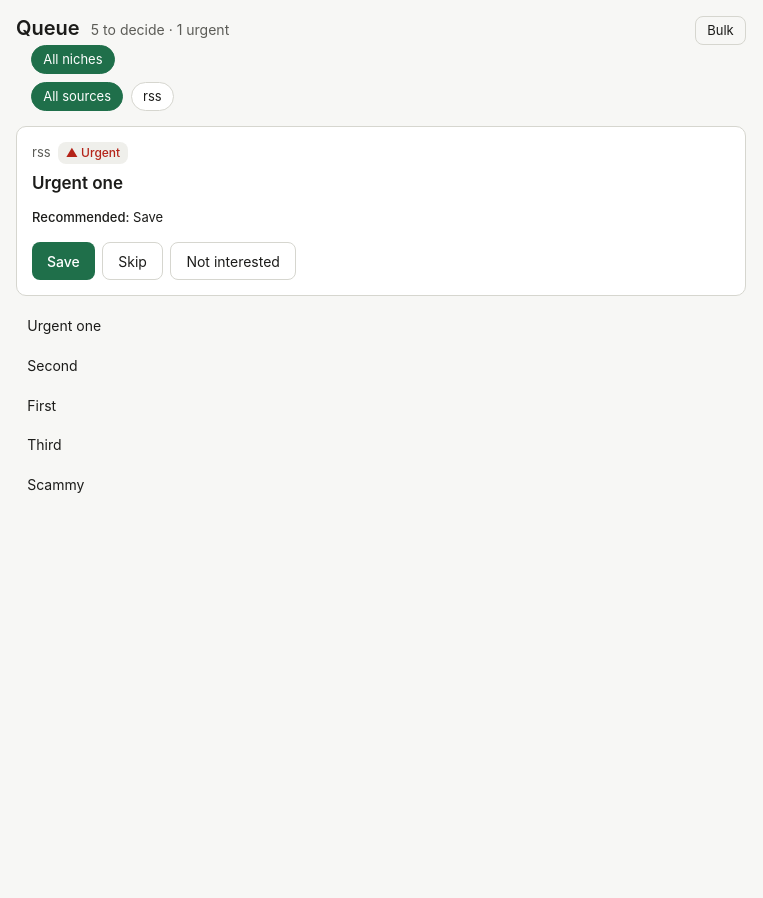
bulk mode › one Undo cancels the whole batch
Expected: the heading "Urgent one" is shown, x1=32 y1=173 x2=123 y2=193
Press b
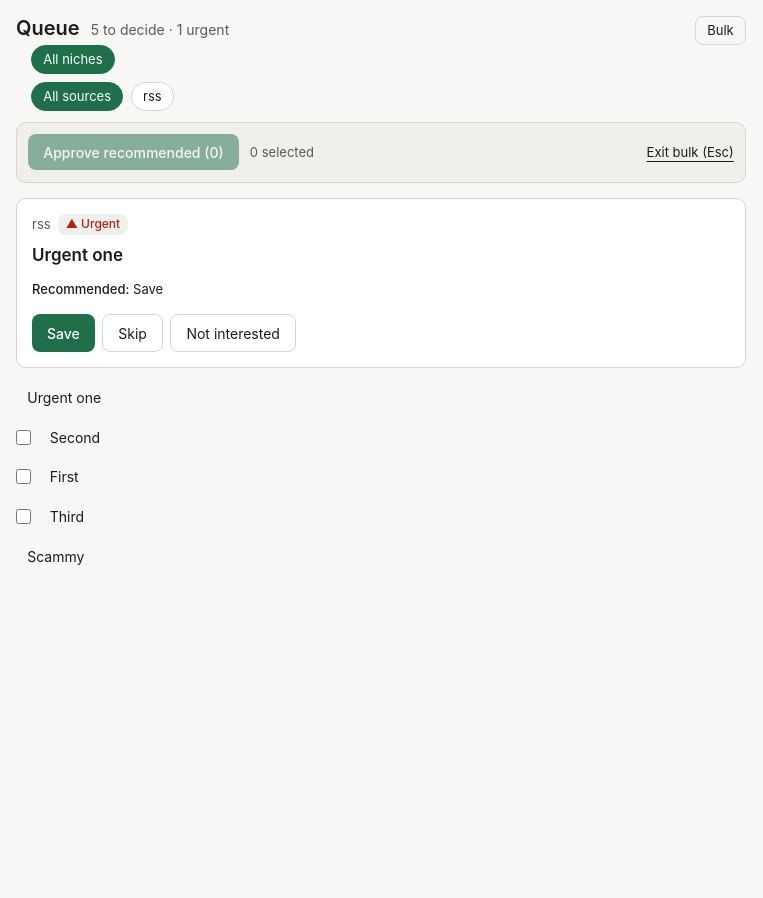
Click the checkbox named "Select Second" at (24, 437), box x1=16 y1=430 x2=31 y2=444
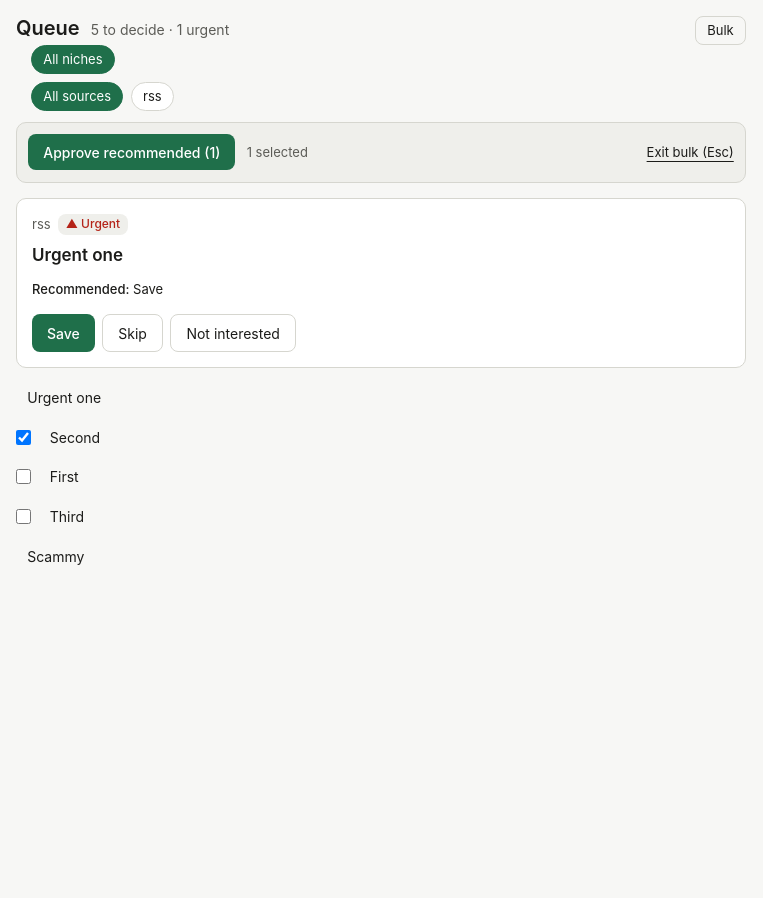
Click the checkbox named "Select First" at (24, 477), box x1=16 y1=469 x2=31 y2=484
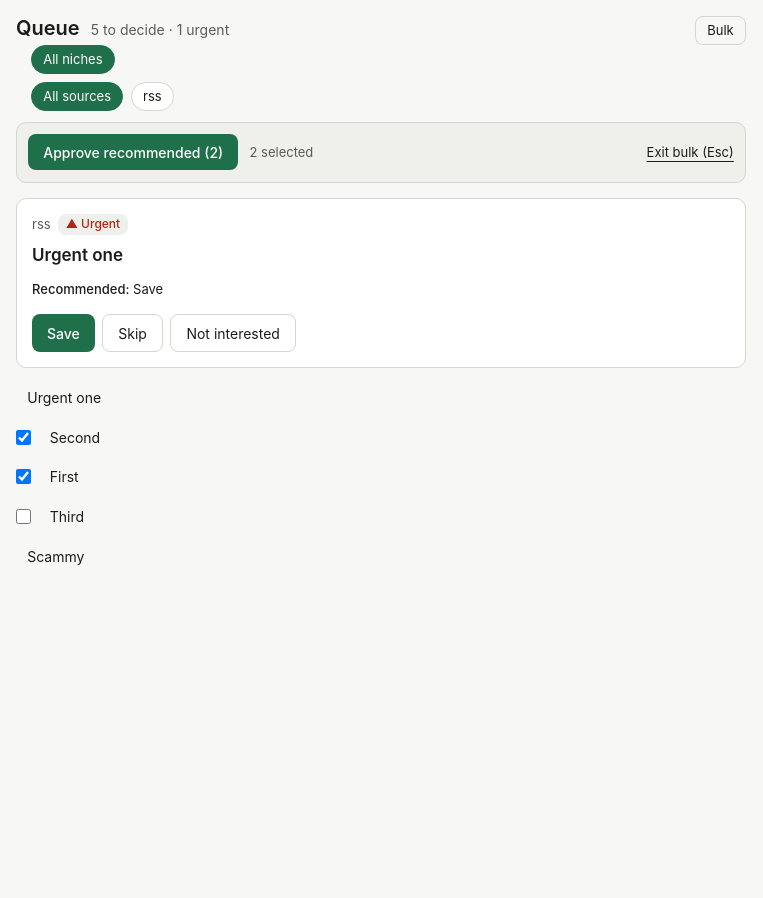
Click the checkbox named "Select Third" at (24, 516), box x1=16 y1=509 x2=31 y2=524
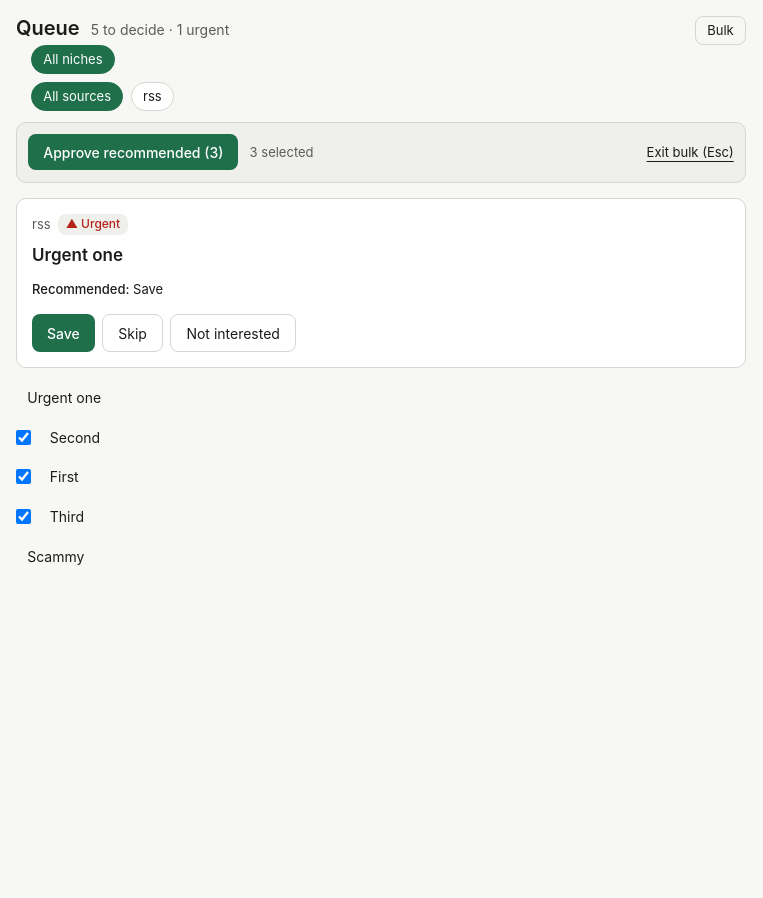
Click the button "Approve recommended (3)" at (133, 152), box x1=28 y1=134 x2=238 y2=170
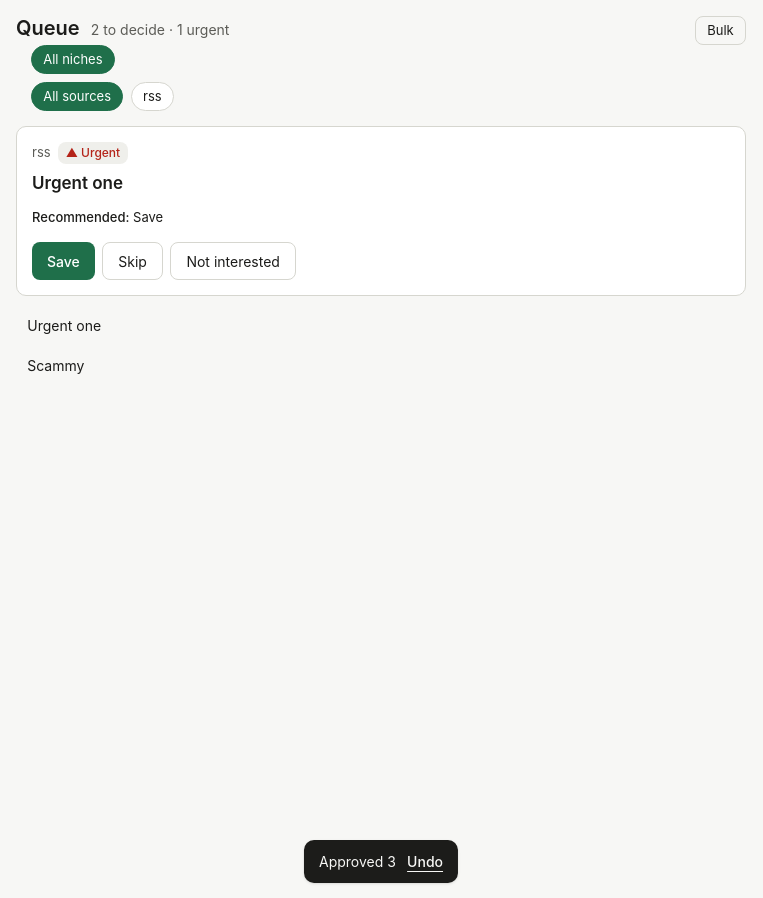
Click the button "Undo" at (425, 861), box x1=407 y1=851 x2=443 y2=872
Wait 11000 ms
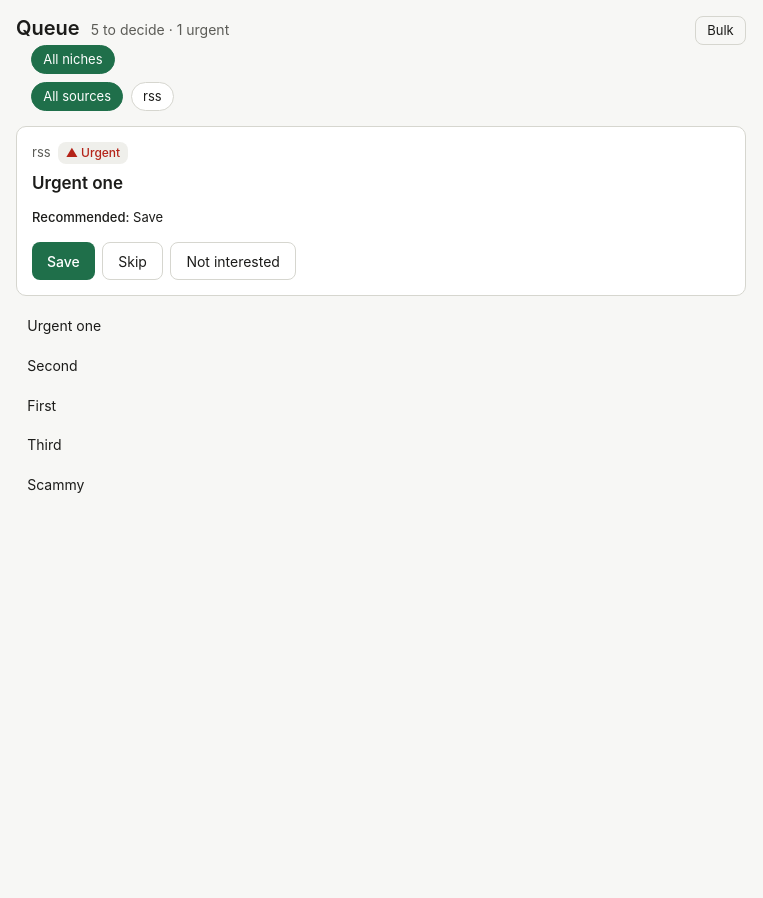
Expected: the heading "Urgent one" is shown, x1=32 y1=173 x2=123 y2=193
Result: the message "Approved 3 Undo" is gone
